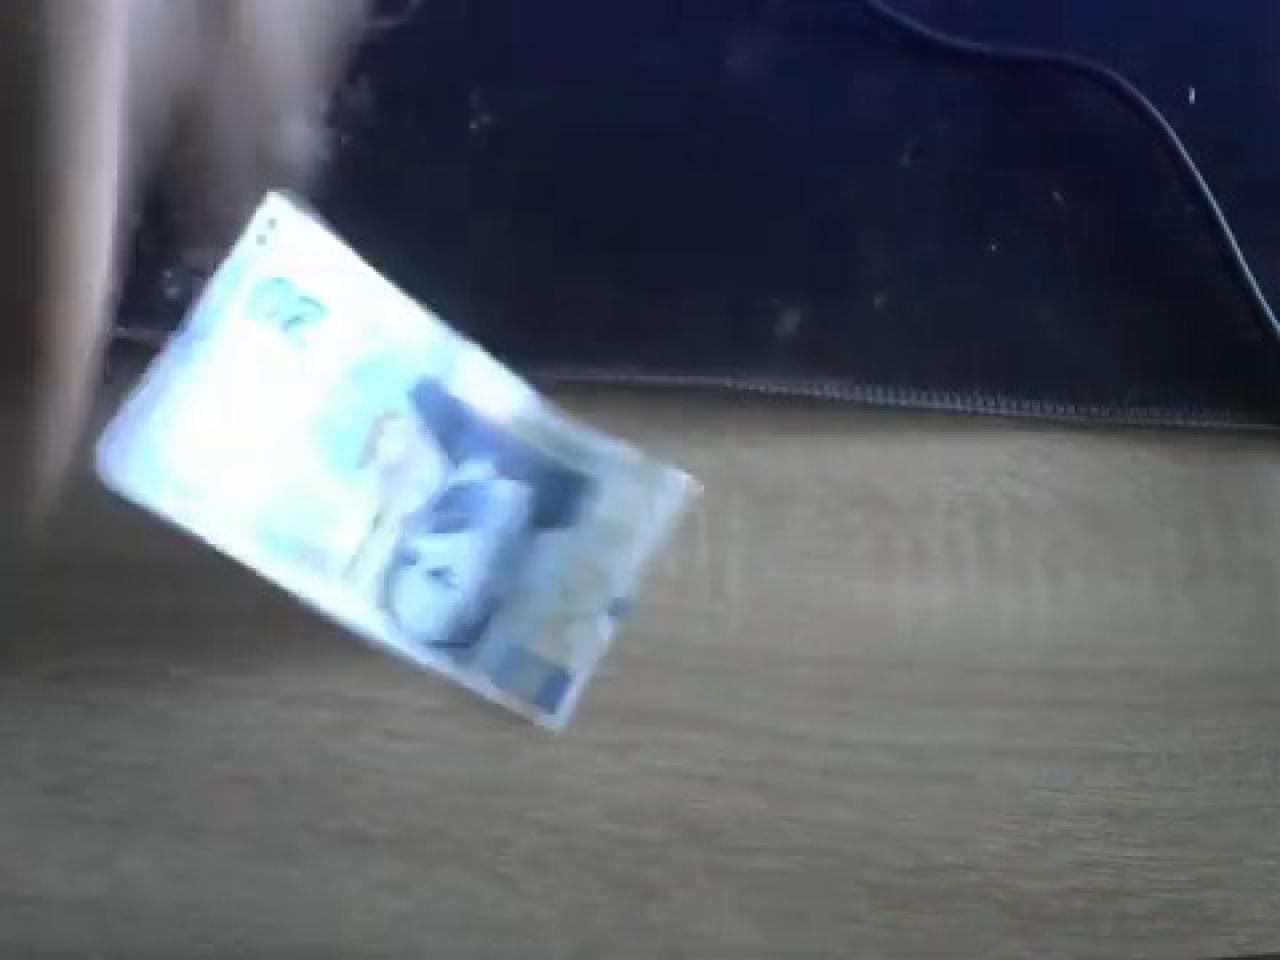20leva: (88, 184, 701, 733)
